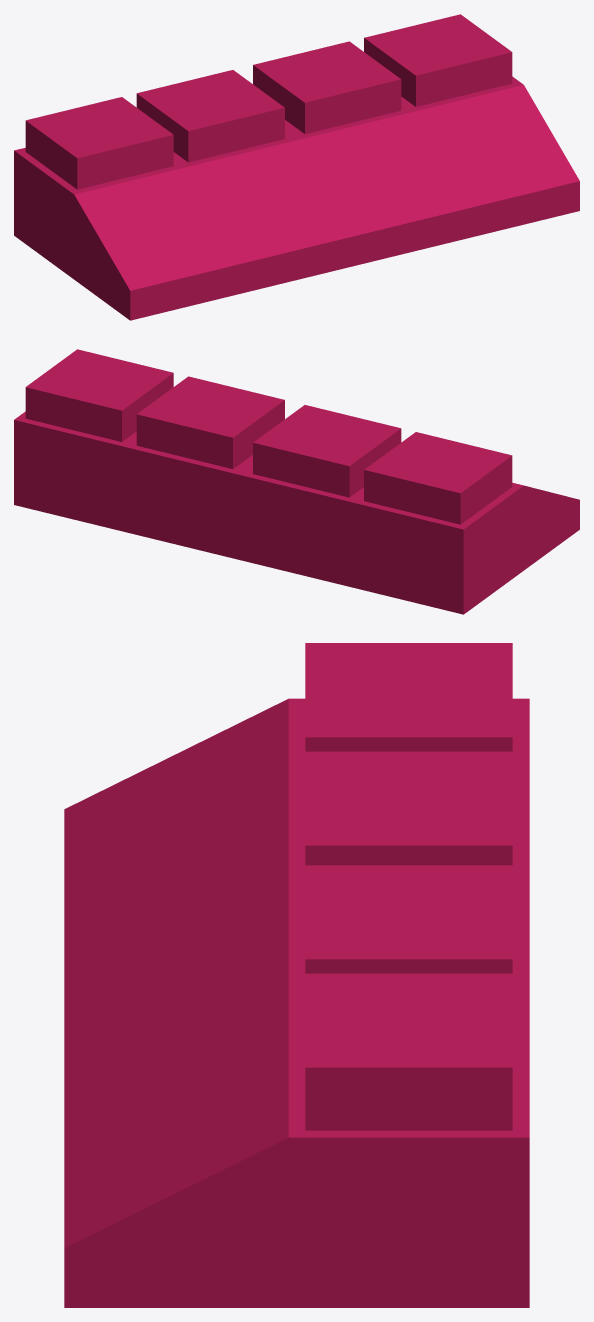
The model's file is Lego_Part_28.fbx.
3 views of the same model, one above another, from view 1: azimuth 30°, elevation 25°; view 2: azimuth 150°, elevation 25°; view 3: azimuth 270°, elevation 25° (orthographic). The views are drawn at different scales.
Parts seen in each view (by area): view 1: Lego_Part_28; view 2: Lego_Part_28; view 3: Lego_Part_28.
Part boxes in pixels (bbox=[...]): Lego_Part_28: bbox=[14, 14, 579, 320]; Lego_Part_28: bbox=[14, 349, 579, 614]; Lego_Part_28: bbox=[64, 643, 529, 1307].
Size of the model in its own units: 6.26 by 1.55 by 2.81.
1 material, 1 textured.
